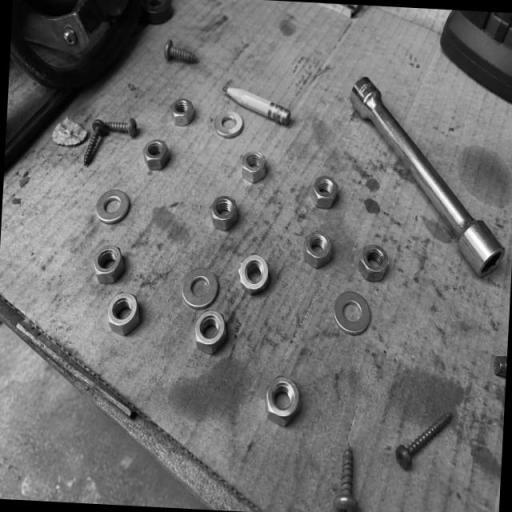Bolt: (394, 409, 454, 471), (332, 444, 359, 511), (92, 116, 139, 138), (163, 39, 198, 64), (82, 127, 103, 167)
Nut: (265, 375, 303, 427), (105, 290, 143, 337), (193, 309, 230, 356), (91, 243, 128, 286), (358, 243, 393, 285), (236, 253, 271, 294), (208, 194, 241, 232), (303, 231, 335, 270), (310, 175, 342, 212), (238, 150, 270, 186), (142, 137, 173, 171), (170, 97, 197, 129)
Washer: (332, 290, 374, 338), (179, 268, 222, 311), (94, 187, 133, 226), (212, 110, 245, 140)
